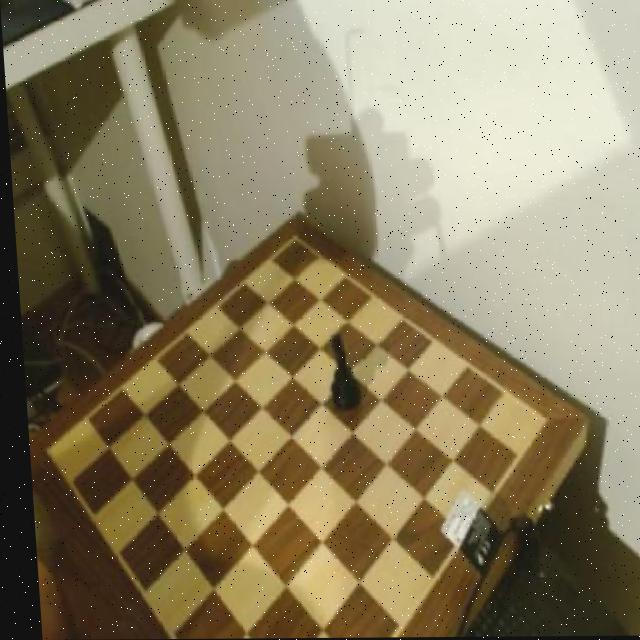black-king: (314, 326, 362, 418)
